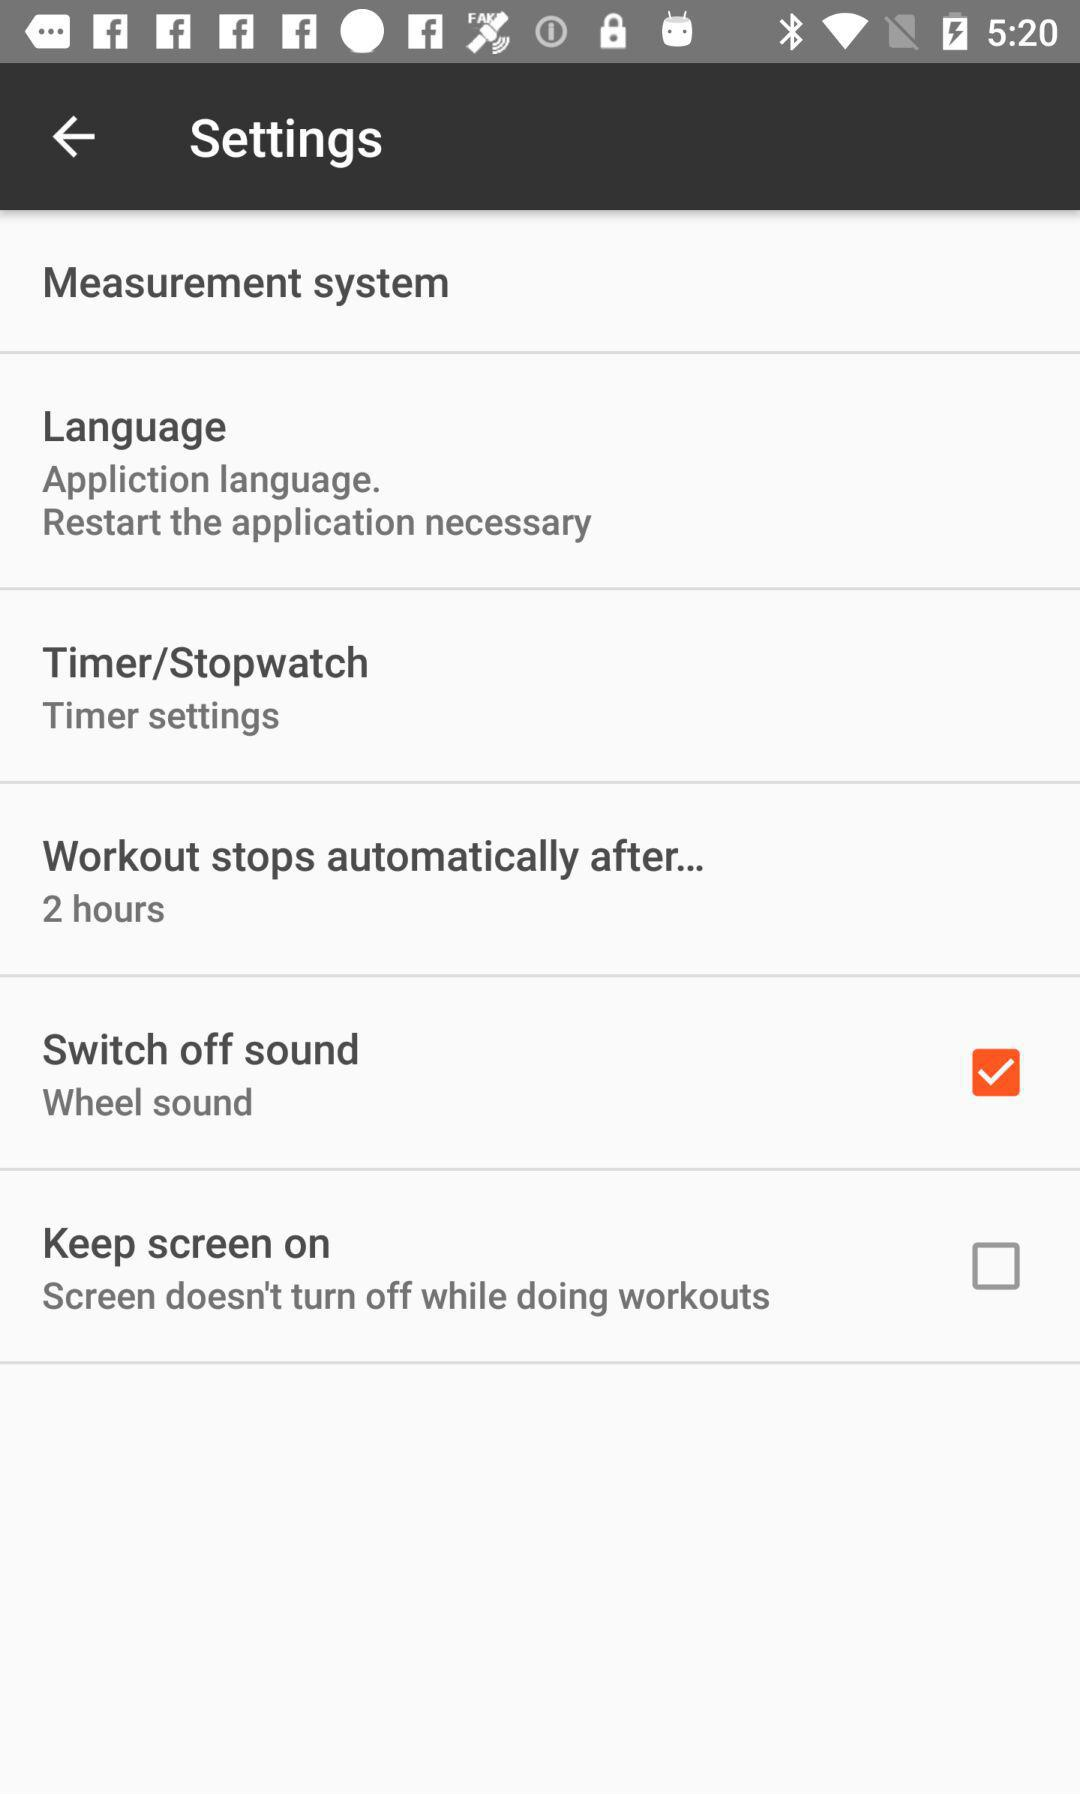CheckedTextView: (971, 1048, 1021, 1098), (971, 1242, 1021, 1290)
Icon: (53, 115, 97, 160)
Text: (42, 464, 594, 545), (44, 1279, 770, 1319), (44, 838, 705, 882), (45, 267, 448, 309), (44, 646, 369, 688), (45, 1228, 331, 1269), (44, 1032, 359, 1066), (190, 117, 383, 170), (44, 701, 281, 738), (45, 411, 227, 452), (44, 1085, 252, 1117), (44, 892, 168, 925)
Toolbar: (1, 63, 1080, 211)
UpperTaskBar: (1, 1, 1080, 64)
